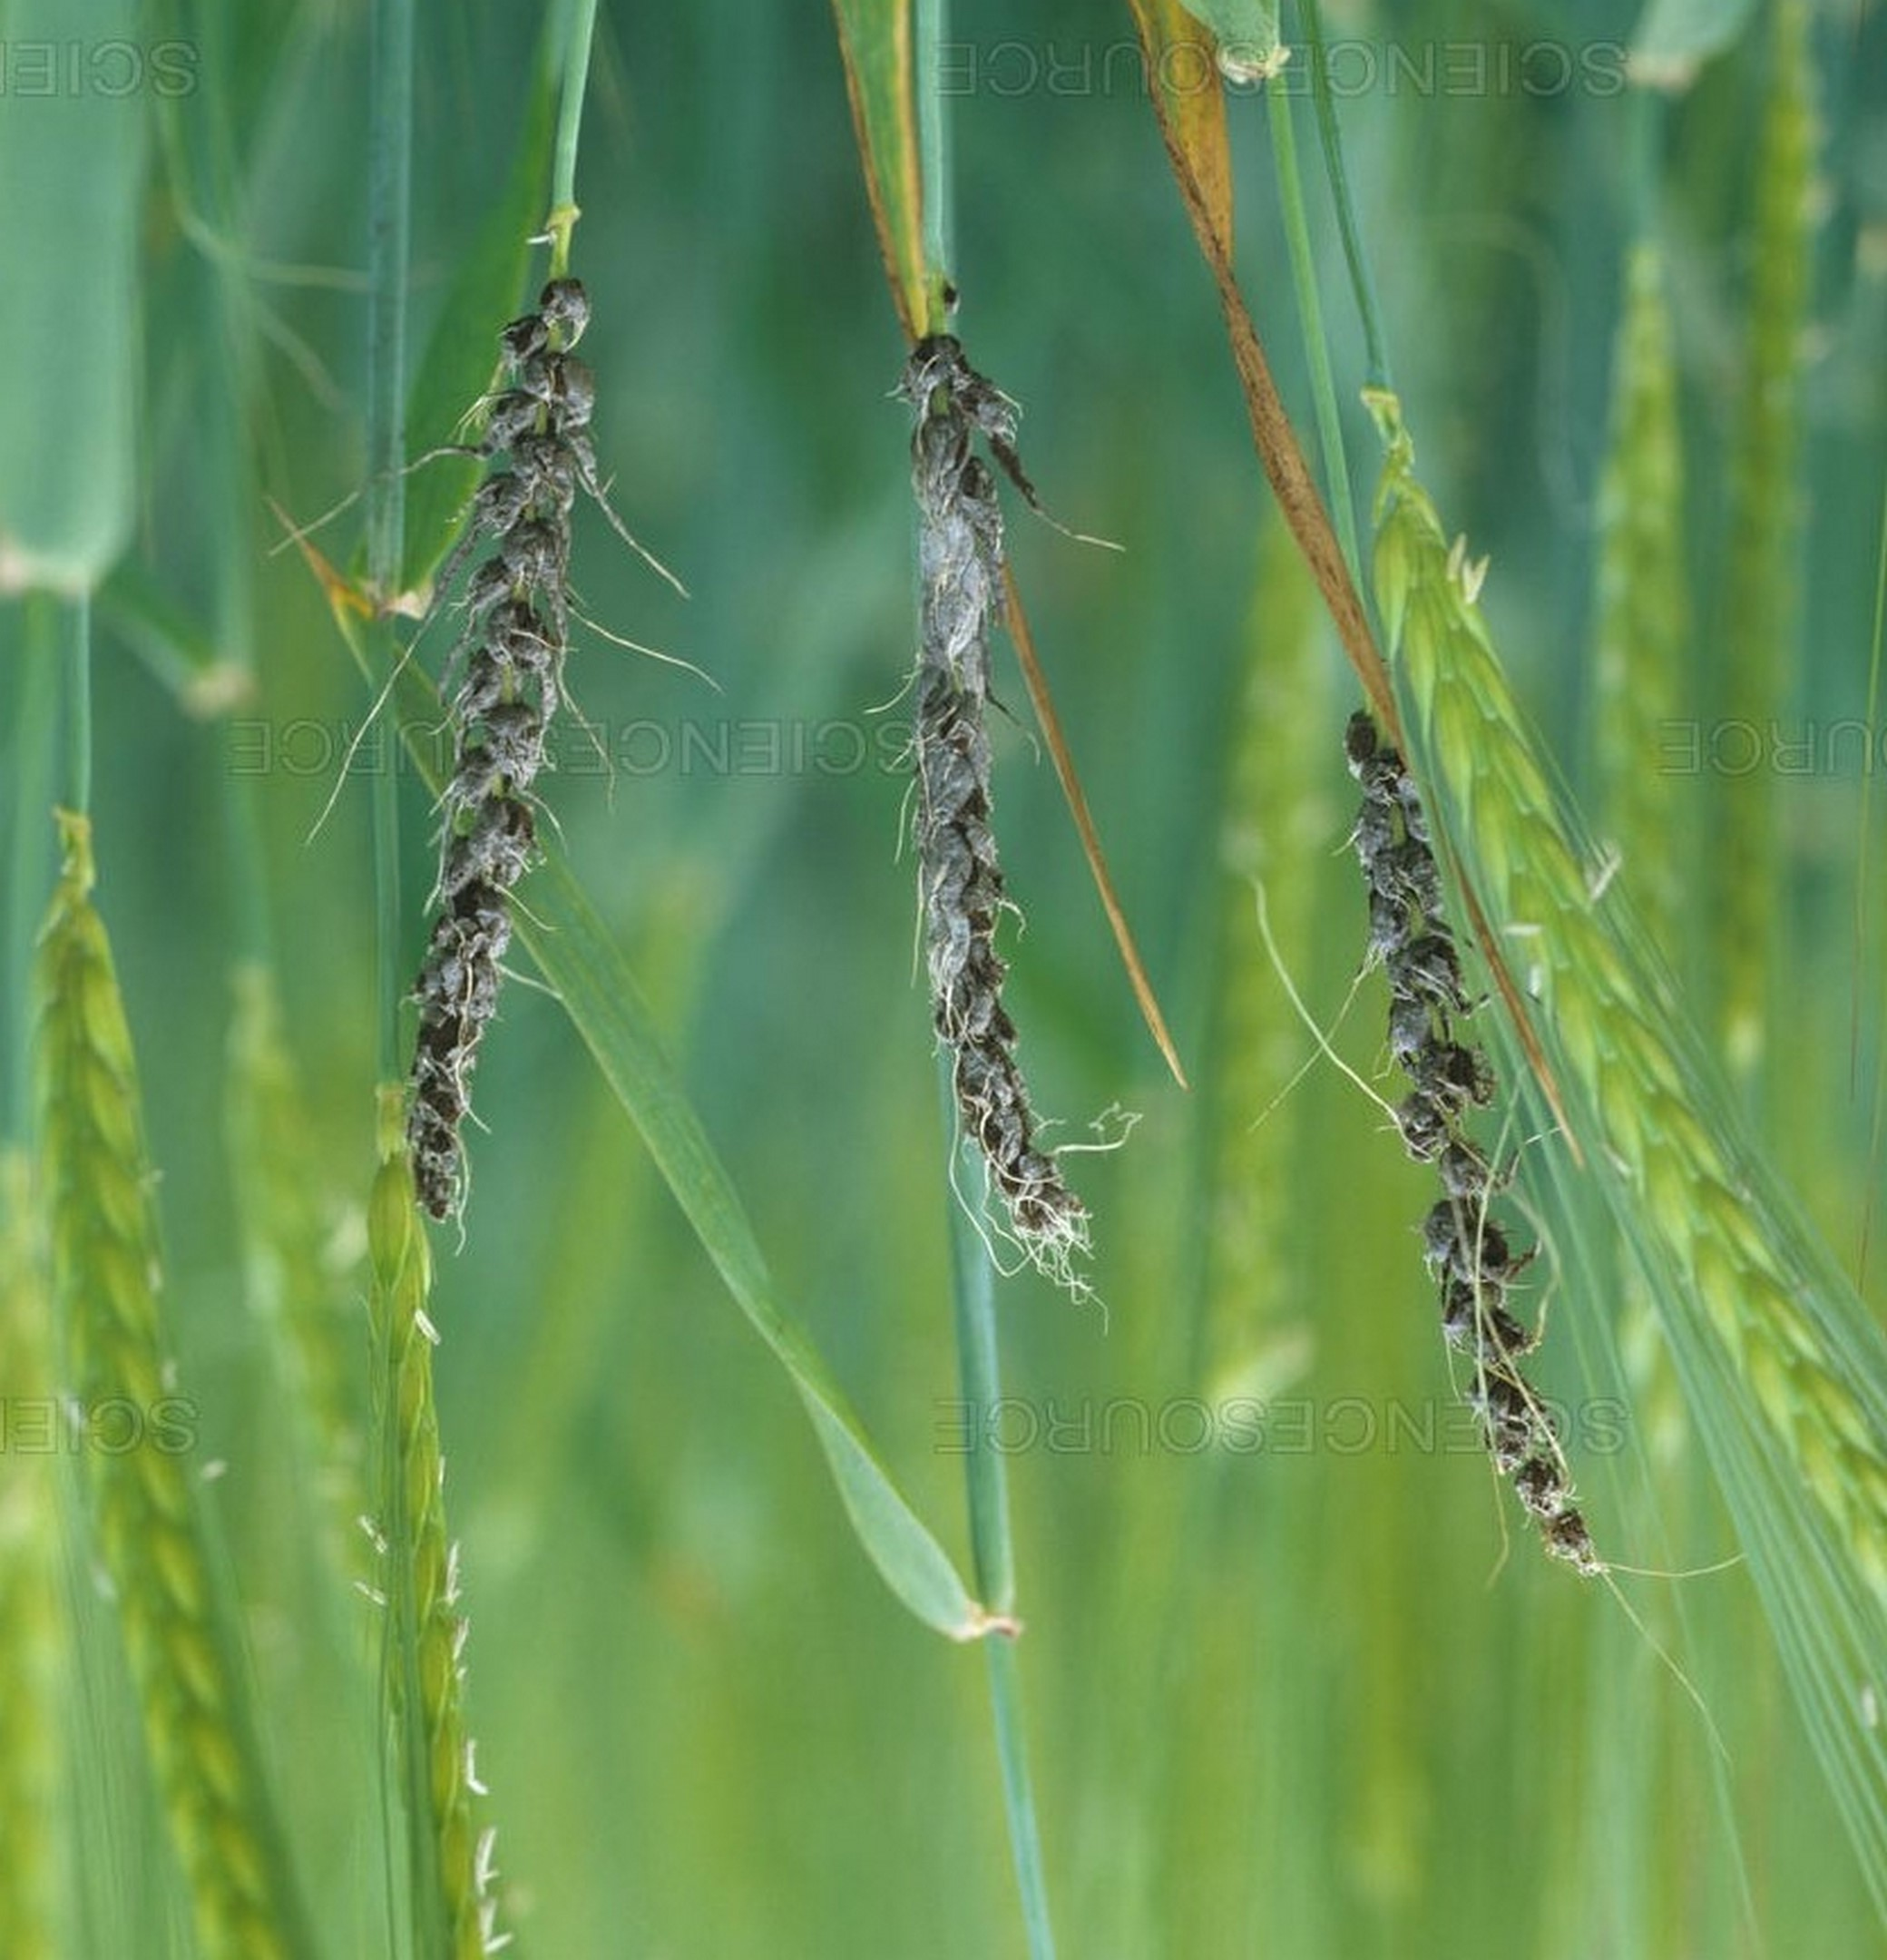Wheat Loose Smut: (1289, 705, 1644, 1596), (860, 313, 1152, 1272), (392, 299, 659, 1197)
